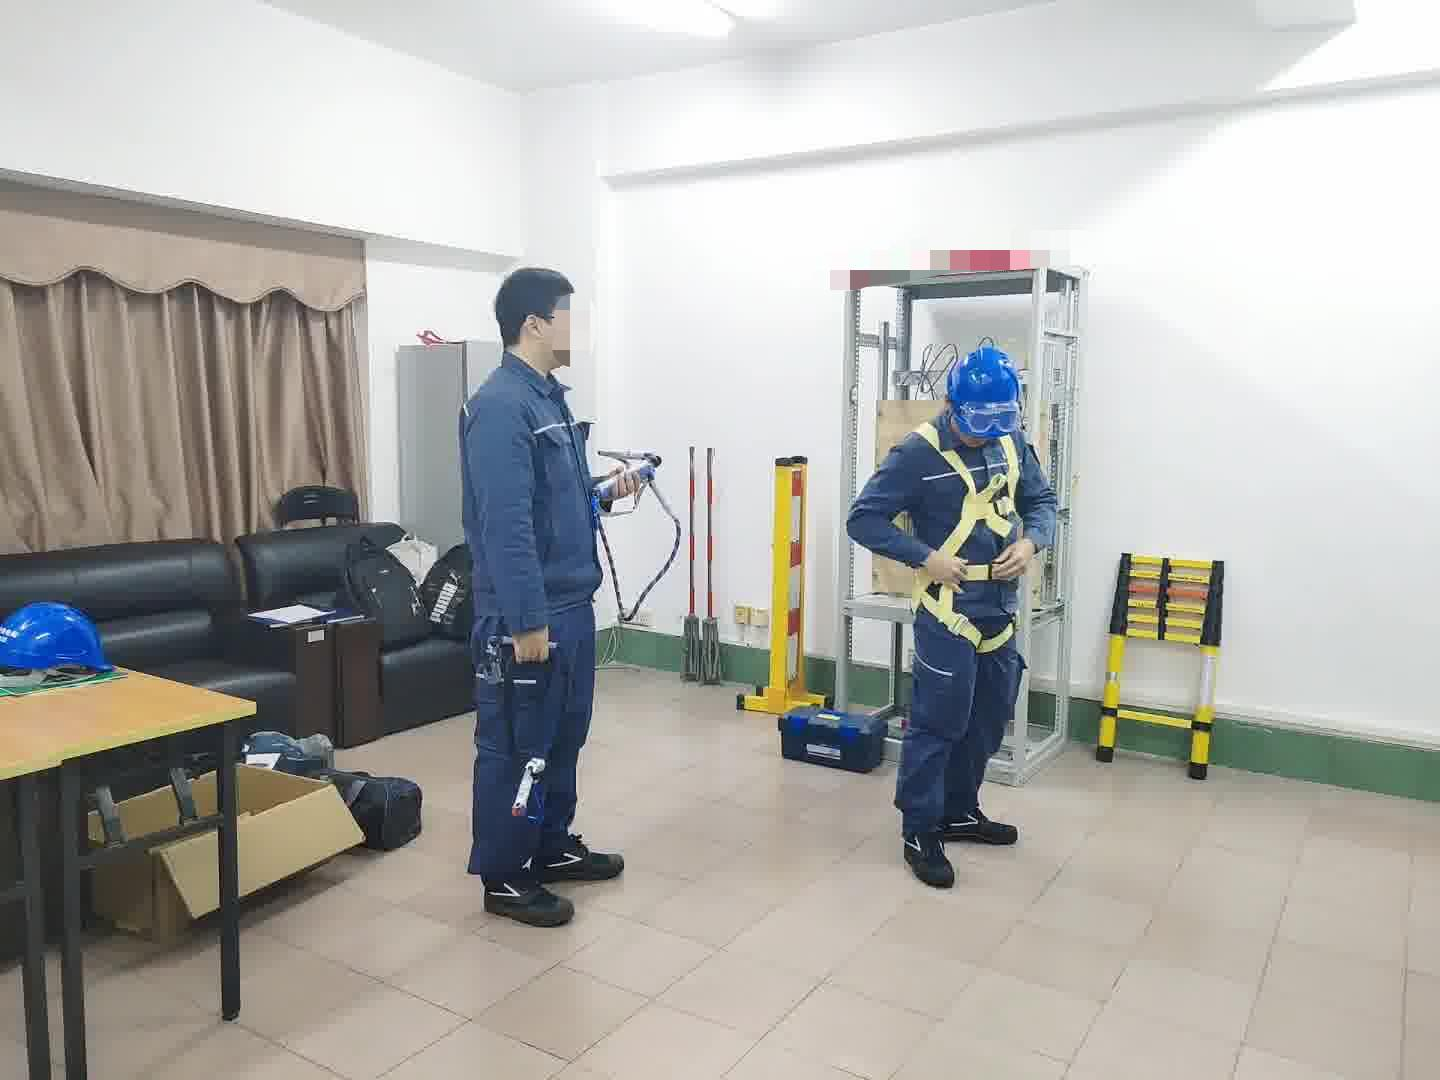halt: (948, 348, 1028, 442)
noear: (517, 313, 556, 354)
unhalt: (494, 268, 588, 373)
